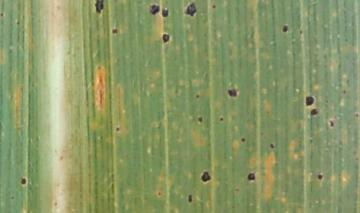tarspot: (183, 1, 197, 17), (149, 3, 161, 16), (94, 1, 105, 14), (201, 170, 212, 183), (306, 94, 316, 108), (247, 171, 257, 181), (161, 32, 170, 43), (228, 88, 239, 97), (161, 6, 169, 17), (309, 108, 318, 117), (281, 24, 289, 34), (328, 118, 335, 128), (19, 177, 27, 185), (111, 27, 119, 35), (196, 115, 204, 123), (268, 141, 276, 149), (233, 185, 241, 193), (51, 199, 59, 207), (340, 86, 347, 95), (187, 193, 193, 203), (113, 125, 121, 132), (218, 115, 225, 122), (317, 173, 324, 180), (8, 194, 16, 200), (15, 18, 21, 26), (211, 2, 217, 9), (241, 135, 246, 143), (298, 28, 303, 36), (1, 11, 6, 17), (195, 93, 200, 99), (157, 190, 162, 196), (355, 112, 360, 117)
